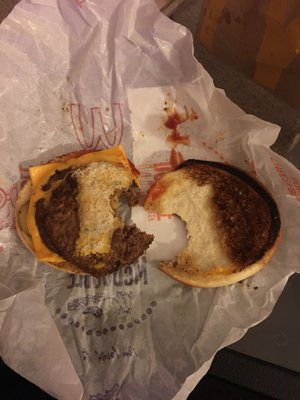sushi: (142, 159, 281, 289), (25, 145, 154, 277)
